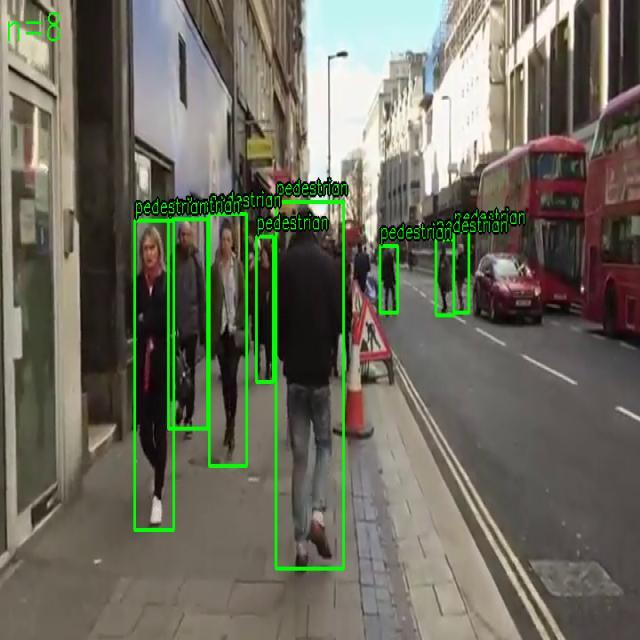with scooter: (276, 202, 344, 570), (134, 220, 174, 531), (209, 213, 247, 467), (168, 218, 208, 430), (256, 236, 274, 383), (436, 238, 454, 316), (454, 230, 469, 314), (380, 246, 398, 314)
